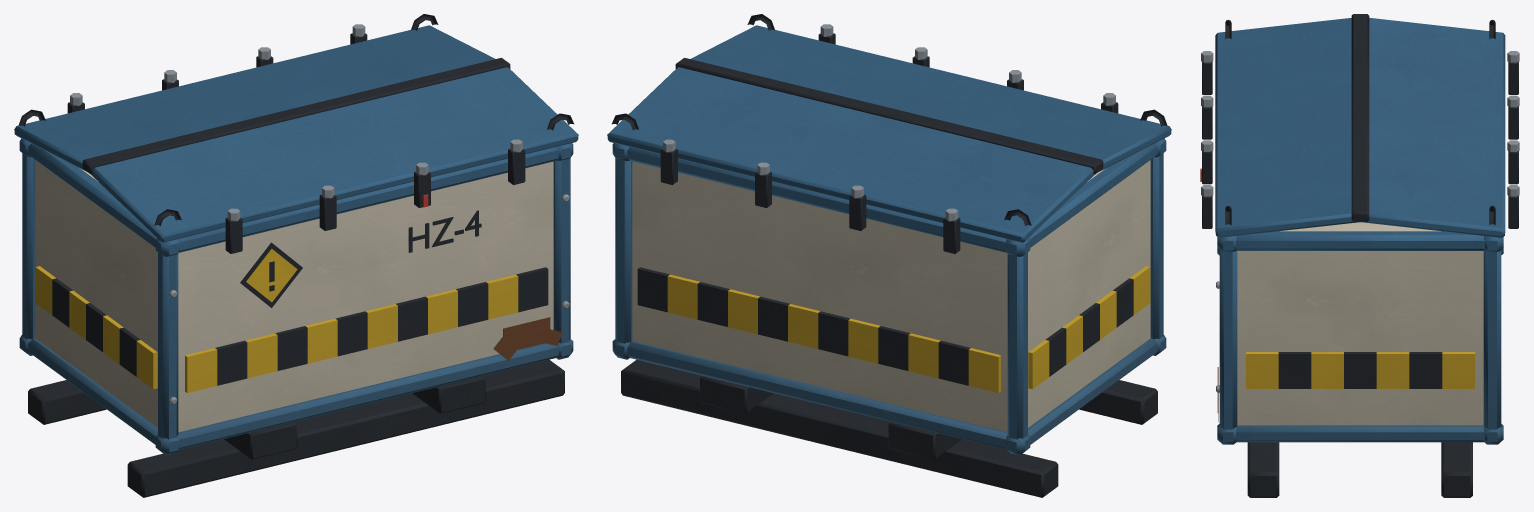
The model's file is hazard_waste_bin.glb.
The picture shows the model from 3 angles, left to right: view 1: azimuth 30°, elevation 25°; view 2: azimuth 150°, elevation 25°; view 3: azimuth 270°, elevation 25°; orthographic projection. The views are drawn at different scales.
Parts seen in each view (by area): view 1: hazard_waste_bin; view 2: hazard_waste_bin; view 3: hazard_waste_bin.
Part boxes in pixels (box(x1,y1,x2,y2)): hazard_waste_bin: box(14, 14, 578, 497); hazard_waste_bin: box(607, 14, 1171, 497); hazard_waste_bin: box(1200, 14, 1519, 497).
Size of the model in its own units: 2.7 by 1.79 by 1.81.
8 materials, 8 textured.
